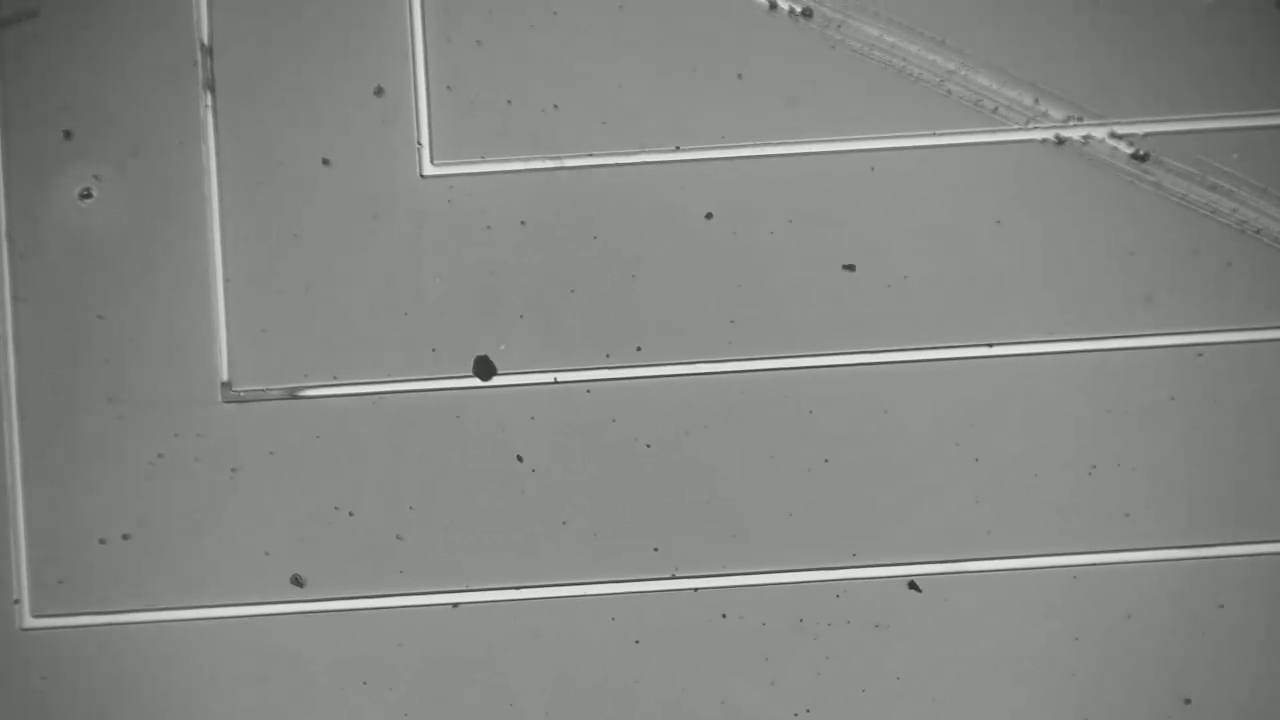edge_bite: (414, 136, 439, 153)
gray_line: (185, 30, 226, 108), (206, 379, 322, 406), (210, 362, 240, 413)
scratch: (763, 10, 1279, 240)
stains_enbedded: (454, 349, 509, 397)
